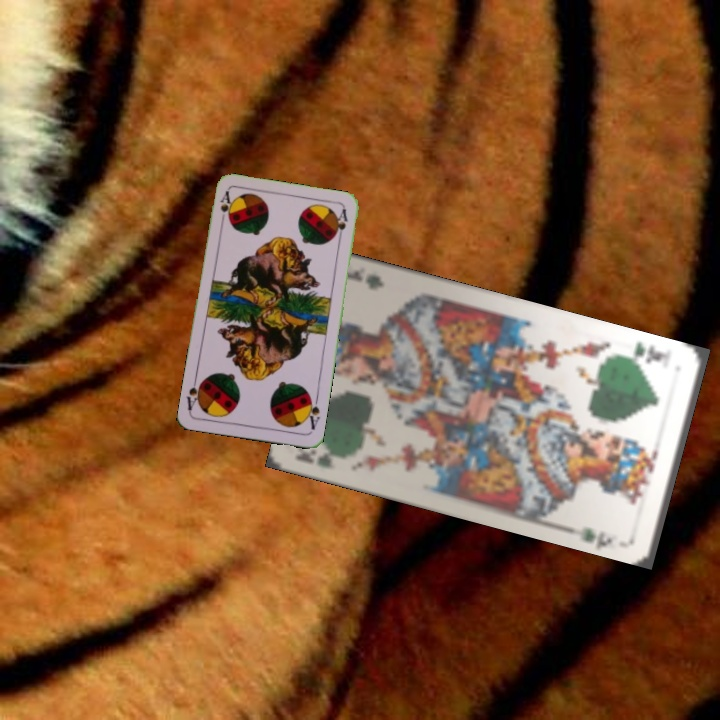GK: (620, 338, 669, 366), (293, 442, 335, 471)
SA: (301, 392, 322, 432), (216, 187, 234, 228)
